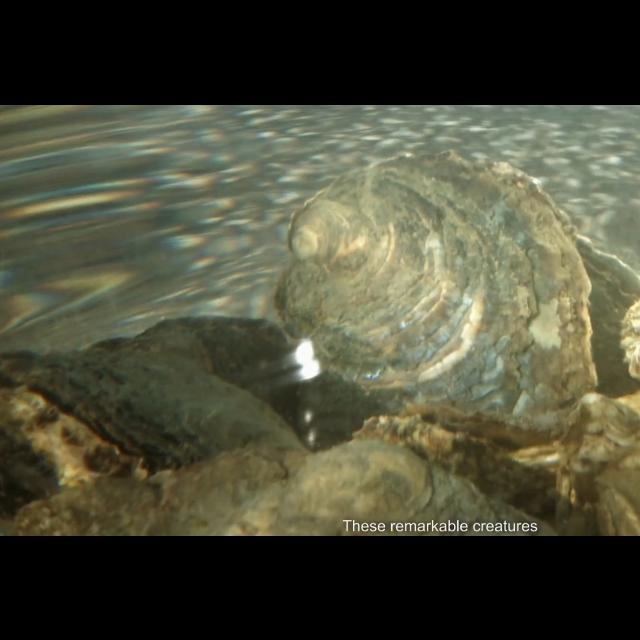Oyster-Closed: (16, 434, 558, 536), (555, 388, 640, 535)
Oyster-Open: (275, 147, 640, 416), (0, 346, 308, 517), (348, 399, 564, 526)
